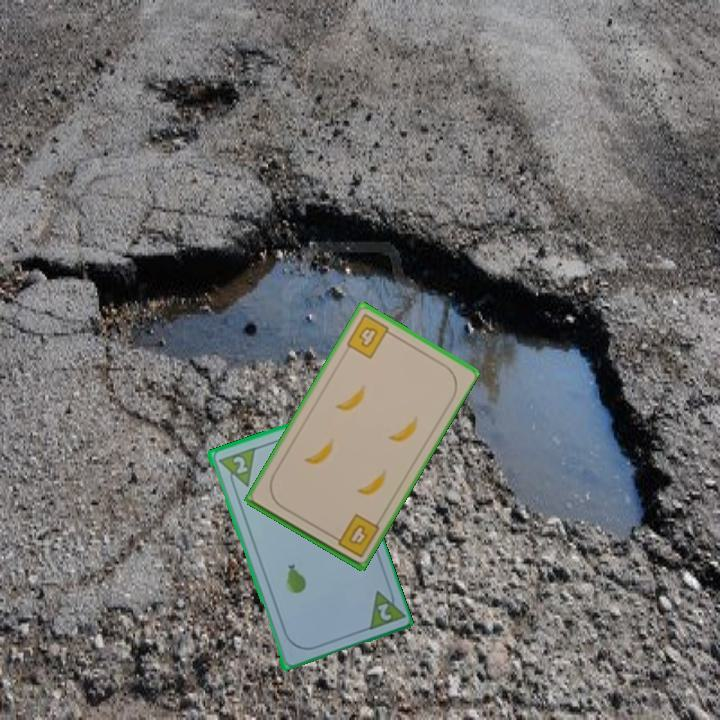2p: (229, 452, 250, 477), (373, 599, 394, 623)
4b: (342, 310, 397, 361), (327, 510, 382, 560)
